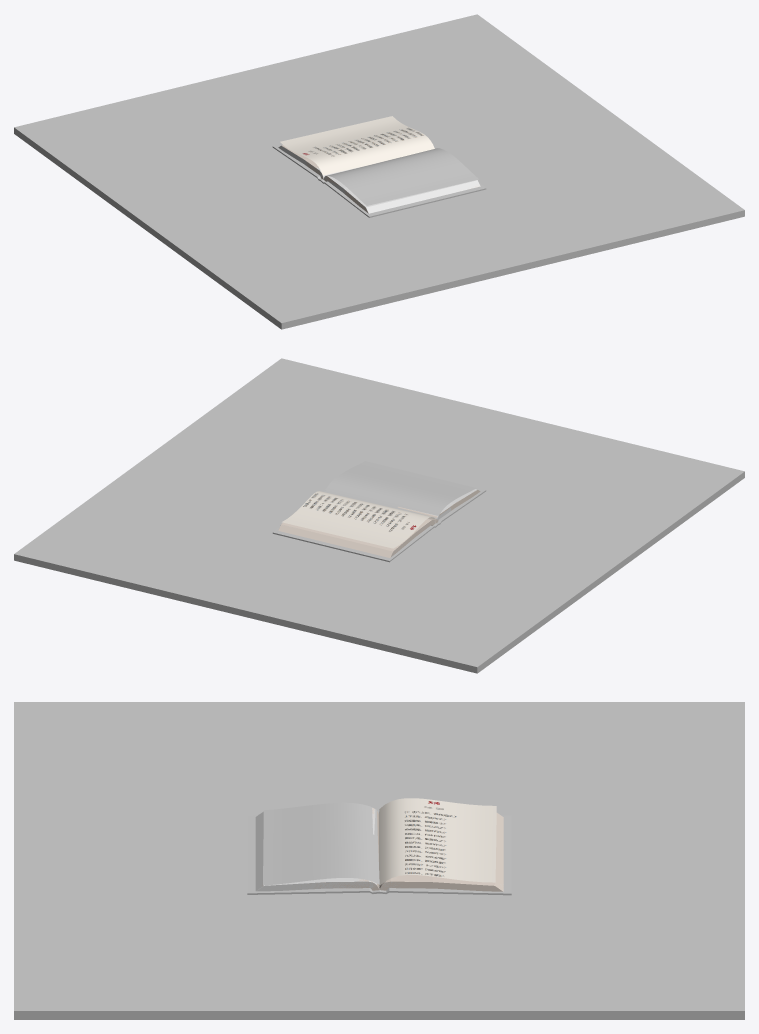
The model's file is 天问book!.fbx.
The picture shows the model from 3 angles, top to bottom: view 1: azimuth 30°, elevation 25°; view 2: azimuth 150°, elevation 25°; view 3: azimuth 270°, elevation 25°; orthographic projection. The views are drawn at different scales.
Visible parts, largest first — view 1: Plane, Plane.001, 贝塞尔曲线.001, 贝塞尔曲线, Cube.003, Cube.002; view 2: Plane, Plane.001, 贝塞尔曲线.001, 贝塞尔曲线, Cube.001, Cube; view 3: Plane, Plane.001, 贝塞尔曲线.001, 贝塞尔曲线, Cube.001, Cube.003, Cube, Cube.002.
Part boxes in pixels (x1,y1,x2,y2): Plane: (14,14,744,329); Plane.001: (134,95,744,323); 贝塞尔曲线.001: (280,116,434,175); 贝塞尔曲线: (327,148,478,205); Cube.003: (278,145,480,213); Cube.002: (272,146,485,217); Plane: (14,377,744,673); Plane.001: (133,358,744,653); 贝塞尔曲线.001: (282,491,435,548); 贝塞尔曲线: (325,461,476,518); Cube.001: (278,489,480,557); Cube: (272,490,486,562); Plane: (14,702,744,1019); Plane.001: (14,702,588,1010); 贝塞尔曲线.001: (379,798,496,885); 贝塞尔曲线: (263,802,379,885); Cube.001: (262,808,503,891); Cube.003: (255,808,503,891); Cube: (309,815,511,895); Cube.002: (247,815,399,894).
Size of the model in its own units: 829 by 36.34 by 829.
